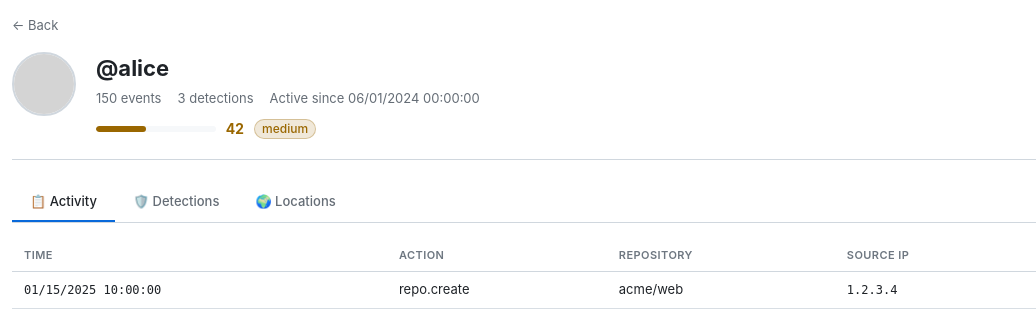
ActorsPage › switches to detections tab
Expected: the heading "@alice" is shown, x1=96 y1=54 x2=169 y2=80
Click the button "🛡️ Detections" at [176, 203], box x1=115 y1=184 x2=237 y2=222
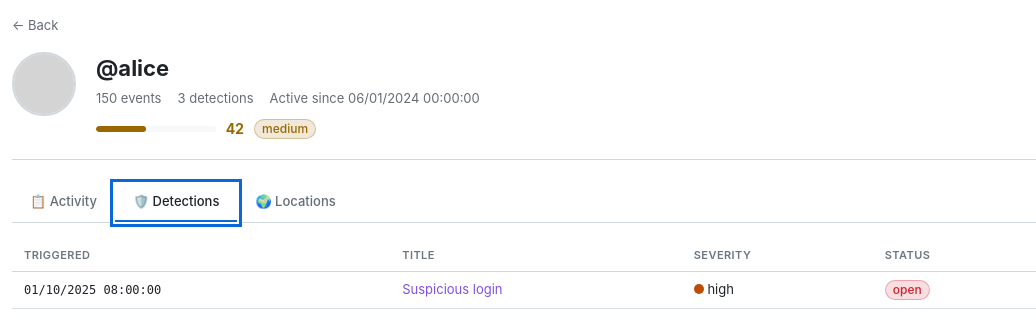
Expected: the link "Suspicious login" is shown, x1=402 y1=281 x2=502 y2=297
